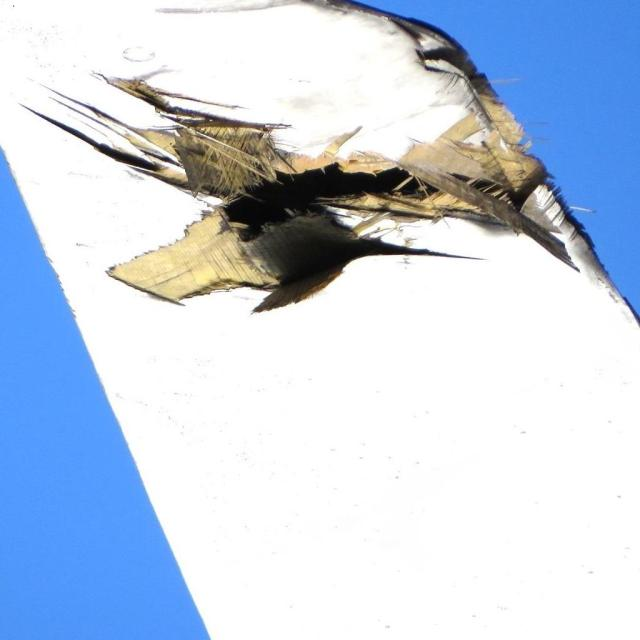crack: (19, 5, 617, 316)
